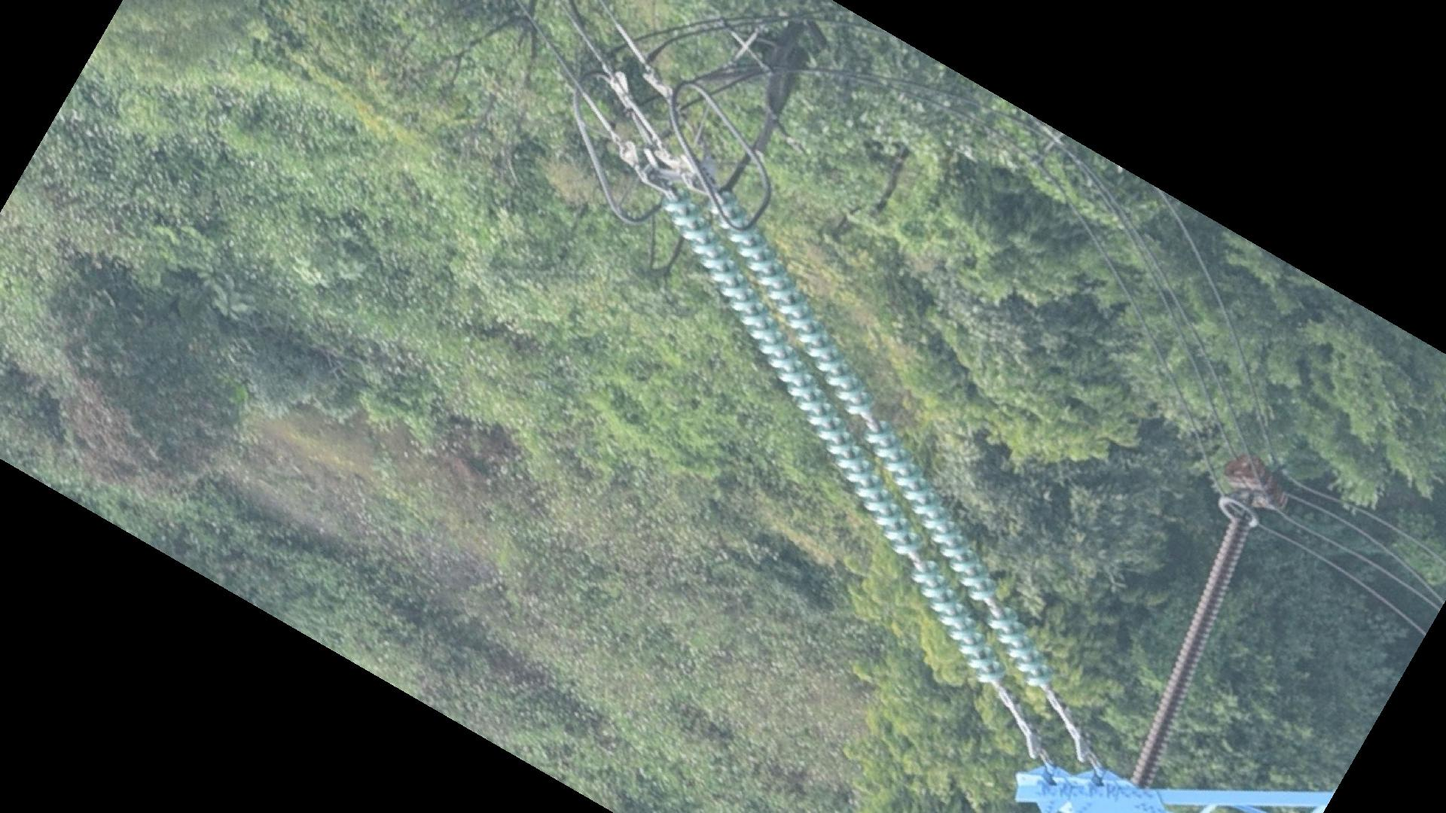insulator: (659, 184, 1060, 692), (1128, 513, 1254, 790)
insulator_stringdrop: (842, 391, 898, 446), (966, 577, 1022, 632), (889, 533, 943, 586)
